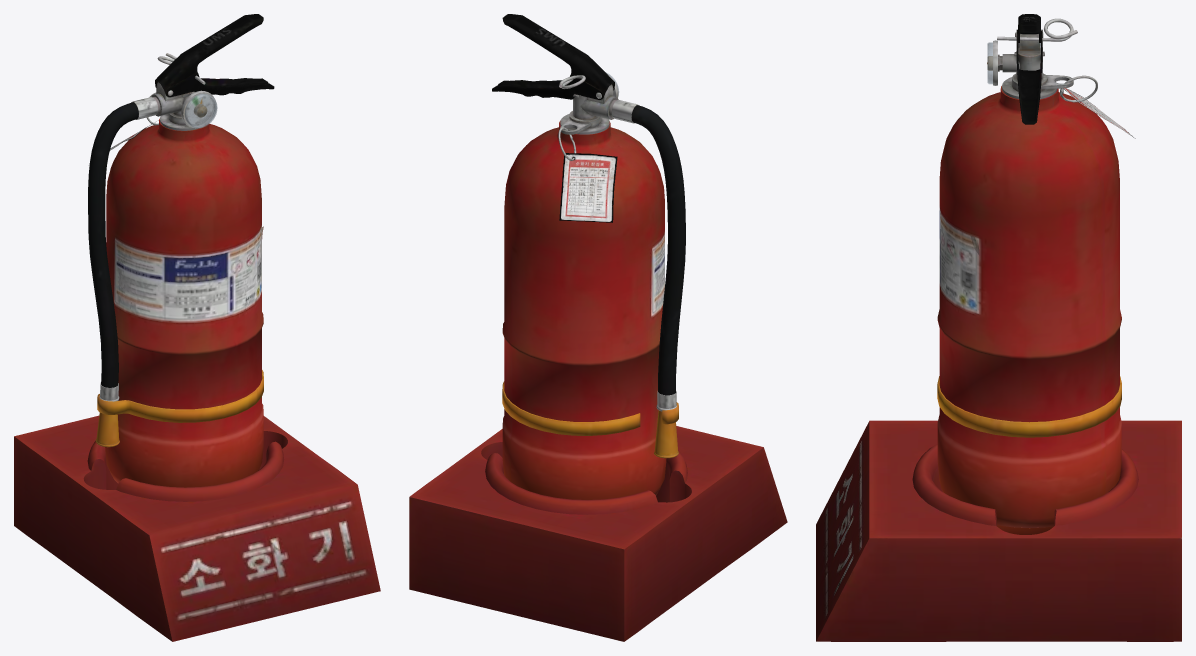
Rendered from korean_fire_extinguisher_01.glb.
3 renders of one model, left to right at view 1: azimuth 30°, elevation 25°; view 2: azimuth 150°, elevation 25°; view 3: azimuth 270°, elevation 25°, orthographic. The views are drawn at different scales.
Visible parts, largest first — view 1: korean_fire_extinguisher_01; view 2: korean_fire_extinguisher_01; view 3: korean_fire_extinguisher_01.
Part boxes in pixels (x1=…): korean_fire_extinguisher_01: x1=14, y1=14, x2=380, y2=641; korean_fire_extinguisher_01: x1=409, y1=14, x2=787, y2=641; korean_fire_extinguisher_01: x1=816, y1=14, x2=1181, y2=641.
Bounding box in the file's own units: 0.2799 × 0.6593 × 0.3674.
3 materials, 3 textured.
